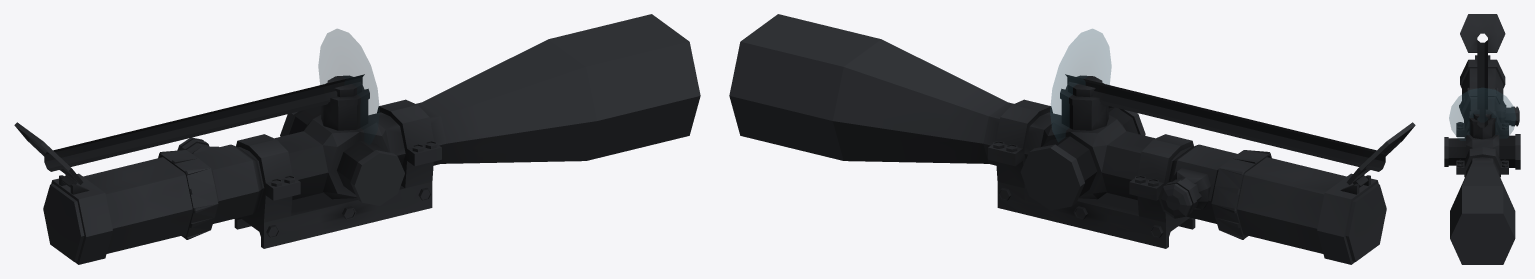
The model's file is k-att-scope-lp5mikittelescopica.glb.
The picture shows the model from 3 angles, left to right: view 1: azimuth 30°, elevation 25°; view 2: azimuth 150°, elevation 25°; view 3: azimuth 270°, elevation 25°; orthographic projection. The views are drawn at different scales.
Visible parts, largest first — view 1: kit, lens; view 2: kit, lens; view 3: kit, lens.
Part boxes in pixels (left/top/right/bottom): kit: left=14, top=14, right=700, bottom=264; lens: left=318, top=29, right=379, bottom=144; kit: left=729, top=14, right=1415, bottom=264; lens: left=1050, top=29, right=1111, bottom=142; kit: left=1444, top=14, right=1520, bottom=264; lens: left=1449, top=88, right=1515, bottom=140.
Size of the model in its own units: 0.2277 by 0.0612 by 0.0429.
